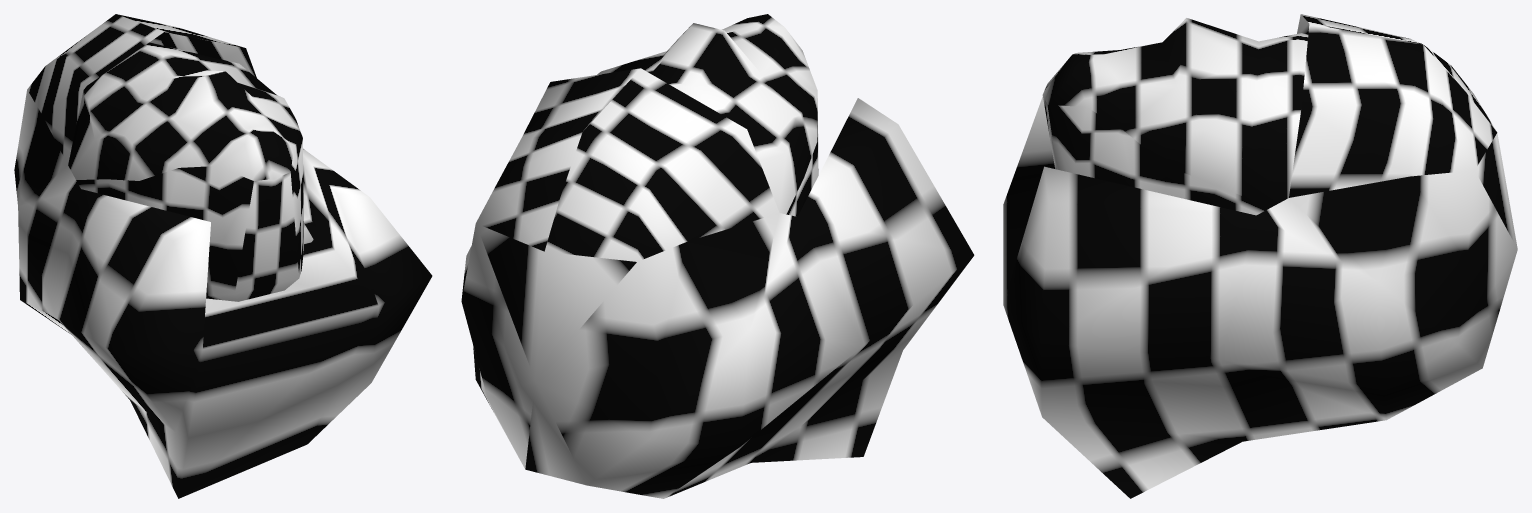
File: infaunhufeth2.dae
The picture shows the model from 3 angles, left to right: view 1: azimuth 30°, elevation 25°; view 2: azimuth 150°, elevation 25°; view 3: azimuth 270°, elevation 25°; orthographic projection. The views are drawn at different scales.
Visible parts, largest first — view 1: face; view 2: face; view 3: face.
Boxes of the visible parts, bbox=[...] form: face: bbox=[14, 14, 432, 498]; face: bbox=[461, 14, 974, 498]; face: bbox=[1003, 14, 1517, 498].
Bounding box in the file's own units: 1.25 × 1.51 × 1.41.
1 material, 1 textured.
